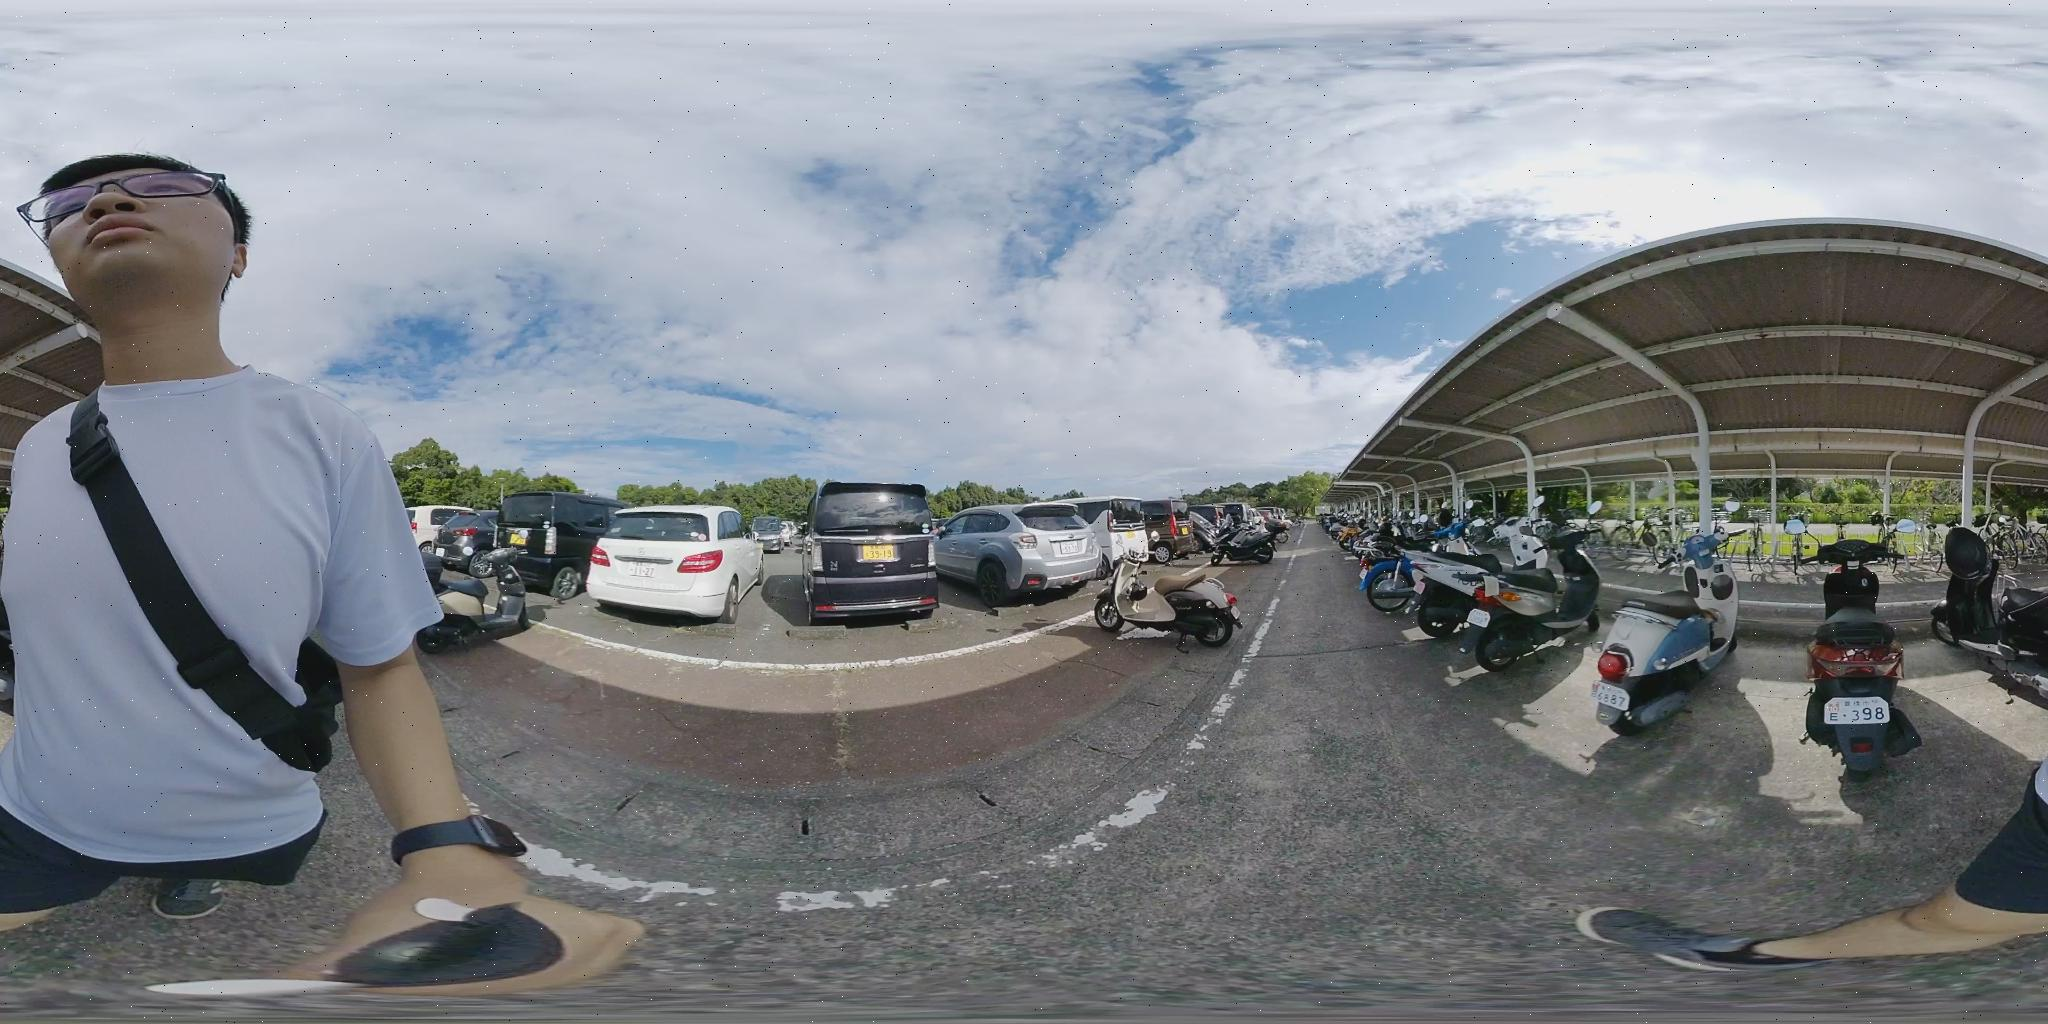car: (592, 503, 763, 623), (802, 482, 942, 627), (934, 508, 1105, 602)
